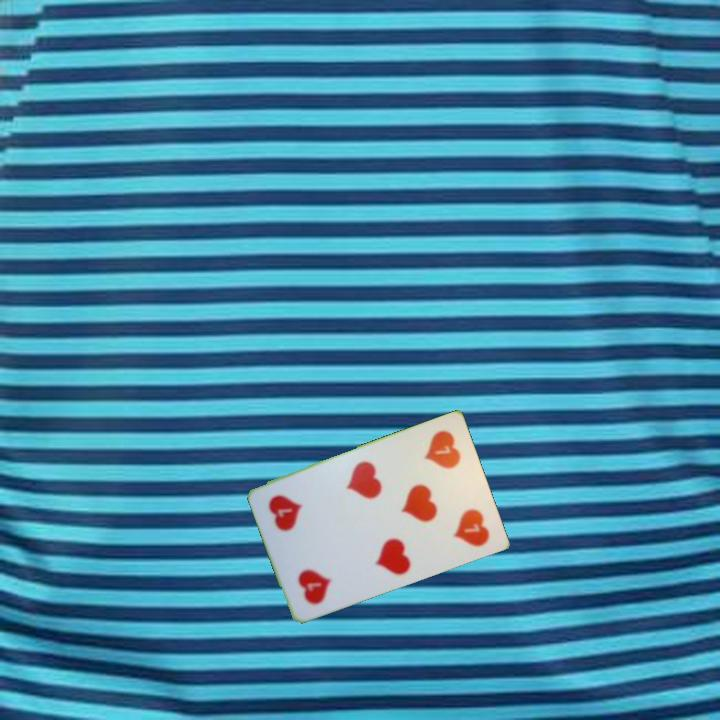h_7.png: (277, 532, 353, 613), (401, 422, 476, 503)
